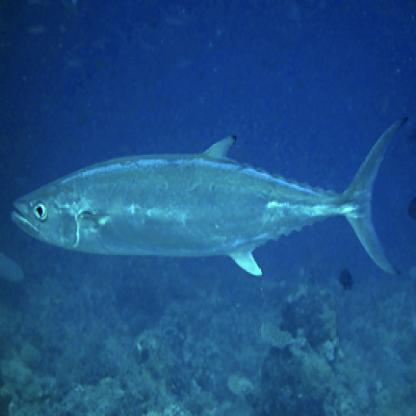Scombridae -Tunas-: (14, 112, 410, 314)
